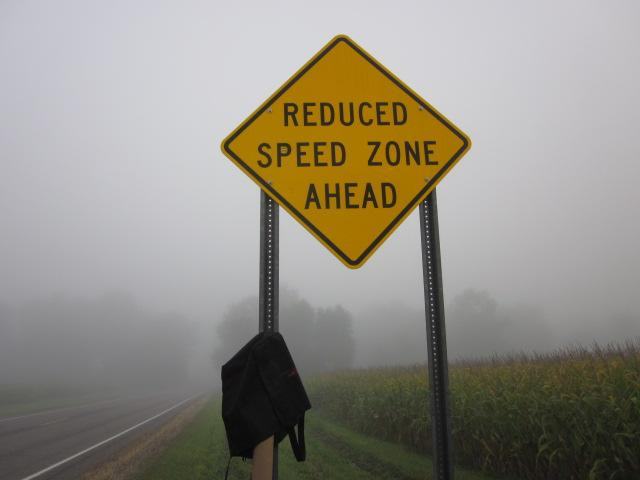warning: (219, 32, 475, 270)
